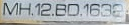character: (2, 2, 18, 16), (66, 3, 79, 17), (18, 1, 30, 16), (54, 3, 66, 17), (40, 2, 51, 16), (100, 3, 111, 17), (89, 3, 99, 17), (34, 2, 40, 16), (82, 3, 88, 17)
